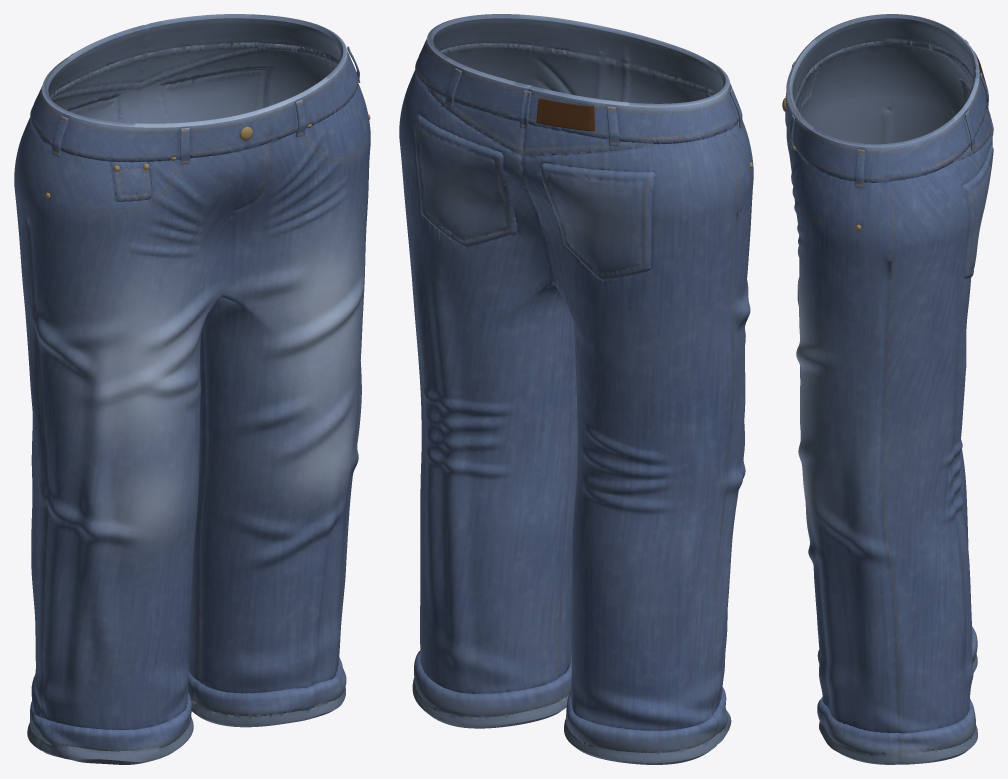
The model's file is 28_vaquero_boyfriend_pbr.glb.
The picture shows the model from 3 angles, left to right: view 1: azimuth 30°, elevation 25°; view 2: azimuth 150°, elevation 25°; view 3: azimuth 270°, elevation 25°; orthographic projection. The views are drawn at different scales.
Visible parts, largest first — view 1: Vaquero PBR; view 2: Vaquero PBR, Etiqueta de piel; view 3: Vaquero PBR.
Part boxes in pixels (x1=…): Vaquero PBR: x1=14, y1=14, x2=370, y2=764; Vaquero PBR: x1=399, y1=14, x2=753, y2=764; Etiqueta de piel: x1=536, y1=98, x2=594, y2=131; Vaquero PBR: x1=785, y1=14, x2=993, y2=764.
Size of the model in its own units: 0.4698 by 0.9024 by 0.2728.
Materials: 3 (1 with a texture image).
